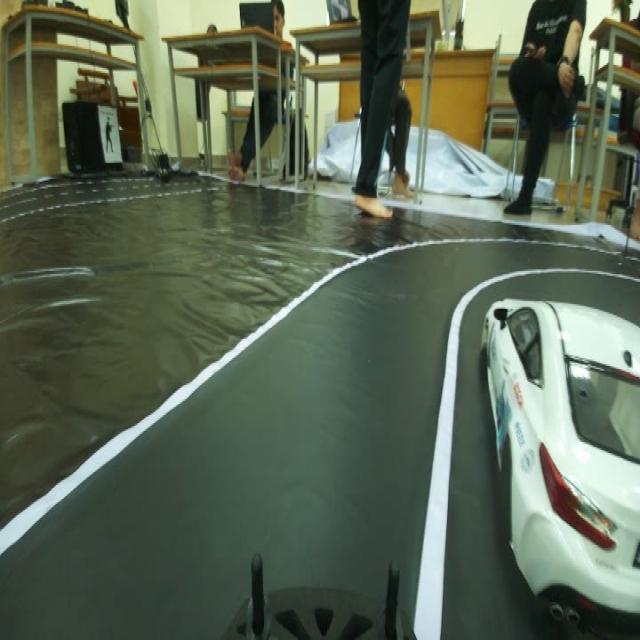car: (462, 265, 640, 606)
